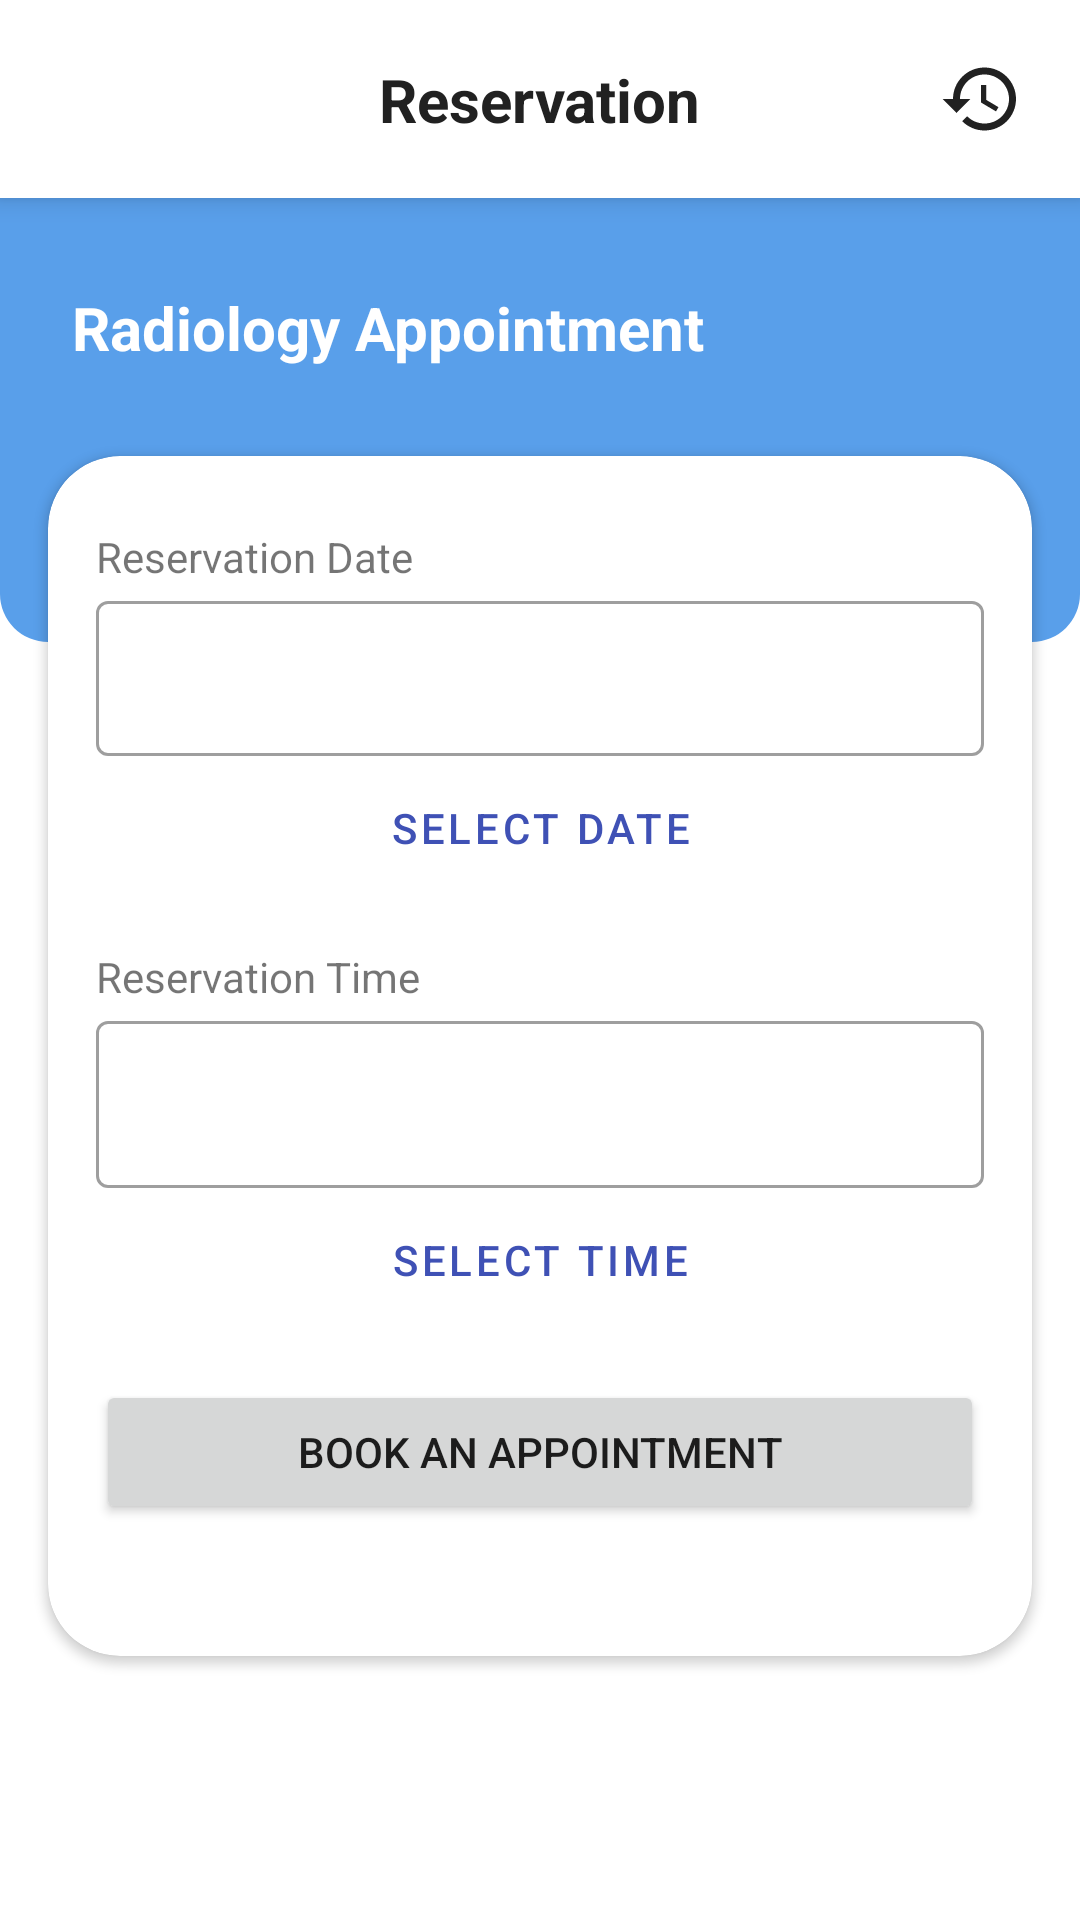

Where to tap for icons on this 1080w x 1920h app screen, as (x=x, y=y):
history: (x=979, y=99)
